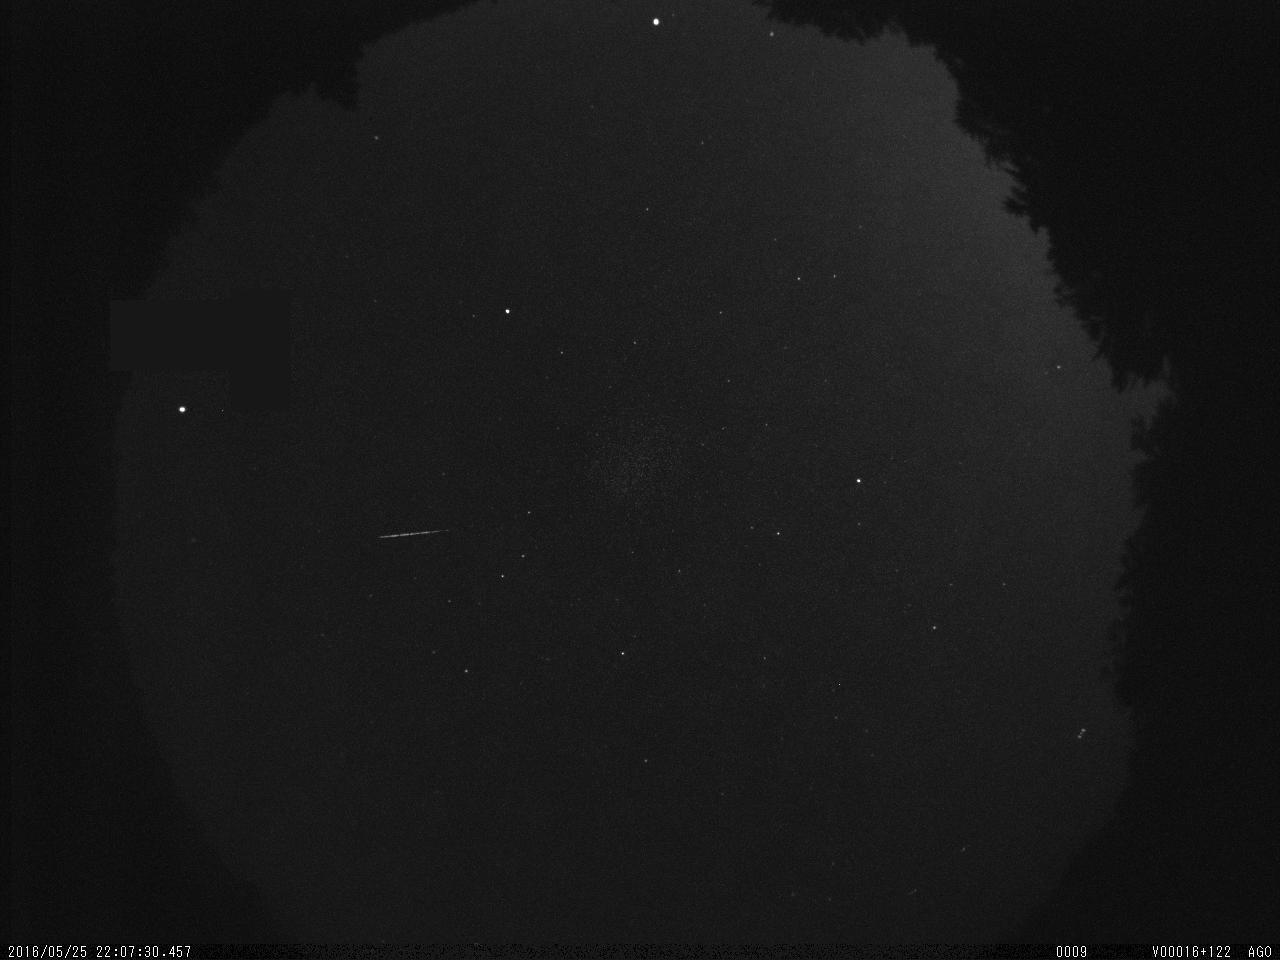meteor: (371, 521, 464, 545)
